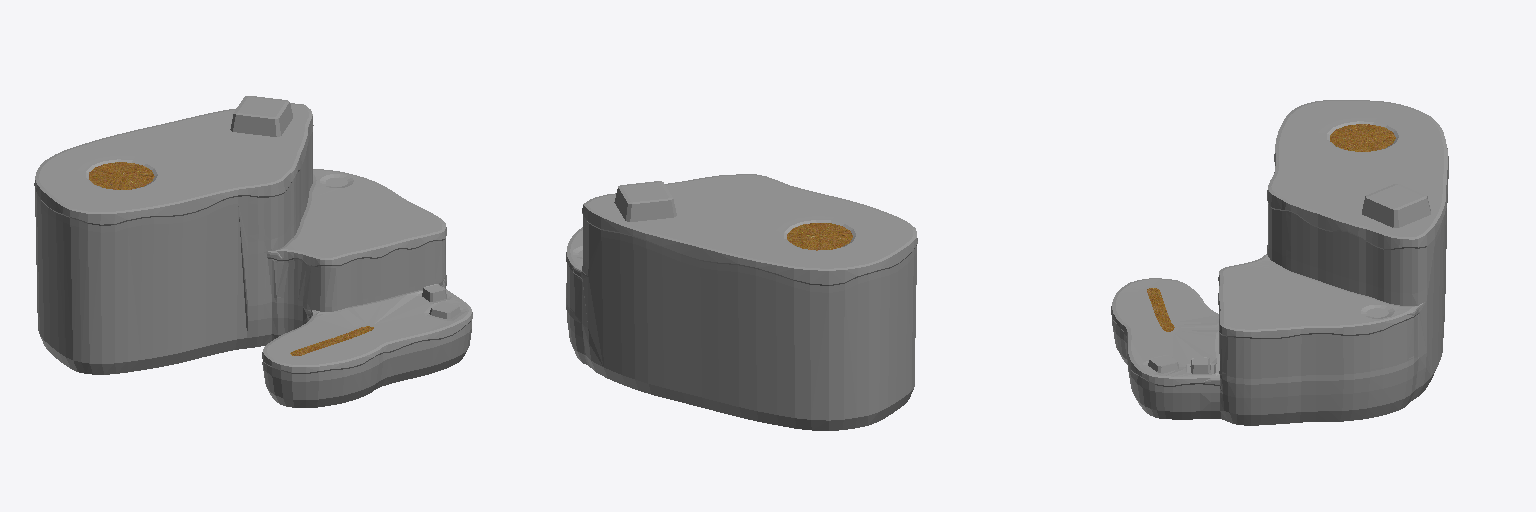
3 renders of one model, left to right at view 1: azimuth 30°, elevation 25°; view 2: azimuth 150°, elevation 25°; view 3: azimuth 270°, elevation 25°, orthographic.
Visible parts, largest first — view 1: Plane.001_Plane.026, Plane.000_Plane.025, Plane.002_Plane.027, Plane.003_Plane.024; view 2: Plane.001_Plane.026, Plane.000_Plane.025, Plane.002_Plane.027, Plane.003_Plane.024; view 3: Plane.000_Plane.025, Plane.001_Plane.026, Plane.002_Plane.027, Plane.003_Plane.024.
Part boxes in pixels (left/top/right/bottom): Plane.001_Plane.026: left=35, top=132, right=471, bottom=407; Plane.000_Plane.025: left=34, top=103, right=472, bottom=373; Plane.002_Plane.027: left=83, top=96, right=460, bottom=318; Plane.003_Plane.024: left=89, top=162, right=373, bottom=355; Plane.001_Plane.026: left=566, top=215, right=916, bottom=430; Plane.000_Plane.025: left=566, top=174, right=917, bottom=285; Plane.002_Plane.027: left=614, top=181, right=858, bottom=251; Plane.003_Plane.024: left=787, top=223, right=852, bottom=250; Plane.000_Plane.025: left=1111, top=100, right=1448, bottom=386; Plane.001_Plane.026: left=1112, top=194, right=1447, bottom=425; Plane.002_Plane.027: left=1148, top=120, right=1430, bottom=373; Plane.003_Plane.024: left=1147, top=124, right=1395, bottom=331.
Bounding box in the file's own units: 5696 × 2895 × 4889.
Materials: 5 (1 with a texture image).